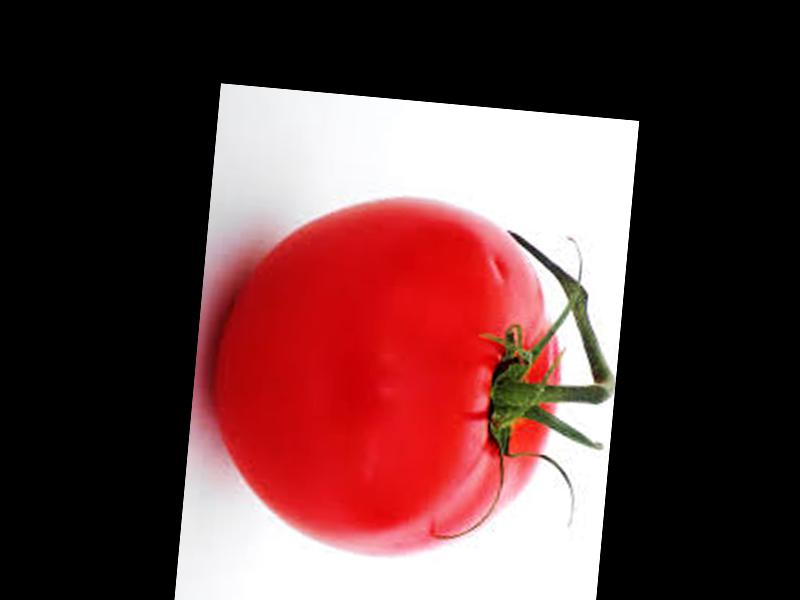Tomato: (196, 184, 572, 574)
